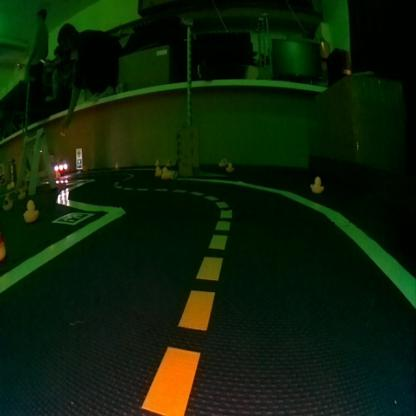Duckie: (23, 199, 38, 222), (309, 176, 323, 192), (2, 196, 12, 210), (161, 167, 170, 178), (17, 188, 25, 199), (225, 162, 233, 171), (6, 182, 12, 189), (155, 166, 160, 174), (165, 160, 171, 166), (219, 160, 224, 166)
Duckiebot: (53, 161, 67, 174)
Intersection sign: (76, 148, 82, 157)
QR code: (51, 212, 93, 223), (76, 159, 81, 167)
